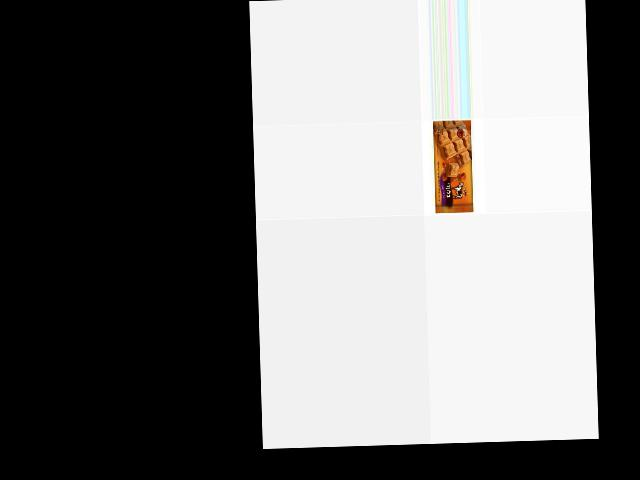chocolate: (429, 119, 473, 216)
